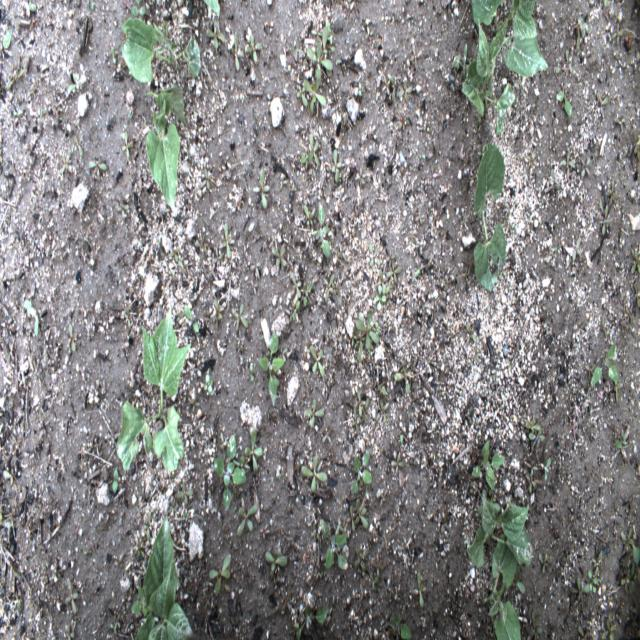crop: (116, 314, 191, 472), (134, 515, 194, 639), (460, 13, 515, 135), (472, 0, 548, 78), (472, 138, 508, 292), (120, 18, 200, 86), (144, 82, 187, 208), (466, 494, 533, 567), (483, 527, 520, 639), (202, 0, 220, 21)
weed: (214, 430, 247, 513), (257, 330, 286, 410), (470, 438, 507, 492), (319, 518, 349, 570), (590, 338, 621, 387), (351, 311, 380, 363), (294, 604, 328, 638), (300, 454, 328, 494), (305, 42, 333, 82), (208, 553, 231, 596), (244, 427, 264, 475), (302, 76, 327, 114), (352, 449, 373, 494), (570, 14, 591, 55), (386, 610, 413, 640), (392, 361, 415, 396), (253, 166, 269, 211), (318, 203, 330, 263), (347, 498, 368, 530), (304, 397, 324, 430), (412, 569, 428, 609), (205, 18, 225, 50), (264, 548, 288, 574), (23, 297, 39, 336), (569, 575, 591, 603), (309, 344, 326, 380), (237, 507, 258, 536), (230, 302, 250, 331), (131, 586, 152, 613), (230, 33, 243, 72), (175, 481, 194, 507), (246, 35, 264, 62), (222, 222, 234, 261), (527, 610, 543, 639), (66, 576, 78, 614), (210, 300, 225, 330), (6, 68, 26, 90), (557, 90, 572, 119), (184, 303, 199, 332), (322, 273, 336, 304), (331, 147, 342, 185), (273, 244, 289, 270), (620, 526, 636, 552), (88, 158, 107, 179), (309, 132, 320, 168), (390, 450, 405, 476), (122, 130, 134, 162), (386, 261, 402, 285), (632, 540, 640, 588), (523, 414, 542, 434), (620, 566, 634, 593), (192, 231, 208, 254), (600, 202, 610, 238), (396, 80, 414, 100), (599, 618, 615, 640), (353, 387, 364, 419), (319, 25, 328, 64), (142, 509, 152, 544), (290, 270, 302, 299), (374, 284, 386, 313), (68, 74, 86, 92), (562, 149, 574, 175), (597, 92, 609, 118), (379, 269, 391, 294), (505, 578, 525, 593), (351, 406, 362, 433), (187, 392, 201, 413), (410, 41, 420, 70), (280, 588, 292, 612), (608, 174, 617, 206), (525, 468, 536, 494), (73, 131, 83, 159), (613, 374, 623, 402), (369, 243, 381, 266), (611, 20, 622, 45), (304, 203, 314, 230), (563, 49, 573, 76), (172, 251, 186, 270), (396, 113, 410, 132), (203, 370, 214, 394), (301, 282, 312, 306), (311, 23, 323, 45), (296, 84, 307, 108), (111, 466, 120, 495), (630, 250, 640, 276), (588, 569, 599, 592), (537, 551, 547, 576), (360, 397, 370, 422), (68, 323, 76, 353), (61, 151, 71, 175), (200, 168, 212, 188), (213, 246, 223, 270), (380, 398, 389, 424), (355, 547, 366, 568), (465, 324, 477, 343), (249, 260, 261, 278), (615, 430, 626, 449), (577, 624, 590, 640), (572, 234, 580, 260), (591, 551, 603, 568), (528, 432, 546, 443), (135, 539, 145, 558), (633, 132, 640, 158), (543, 457, 550, 483), (381, 75, 390, 95), (2, 28, 12, 46), (110, 612, 121, 628), (370, 575, 380, 592), (336, 243, 346, 260), (385, 250, 395, 267), (600, 315, 607, 339), (286, 305, 296, 321), (364, 26, 374, 42), (626, 305, 634, 324), (110, 46, 117, 67), (66, 624, 75, 640), (377, 384, 388, 396), (634, 281, 639, 307), (38, 106, 44, 126), (249, 364, 254, 384), (551, 246, 558, 253)
